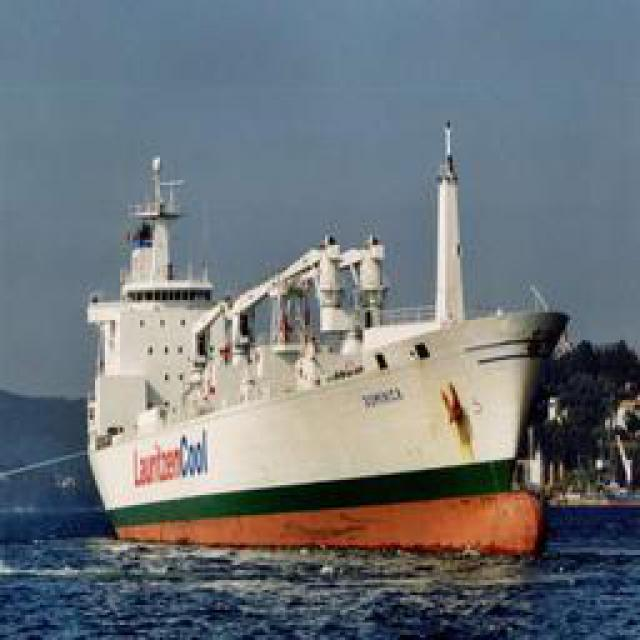Ship: (76, 116, 571, 556)
